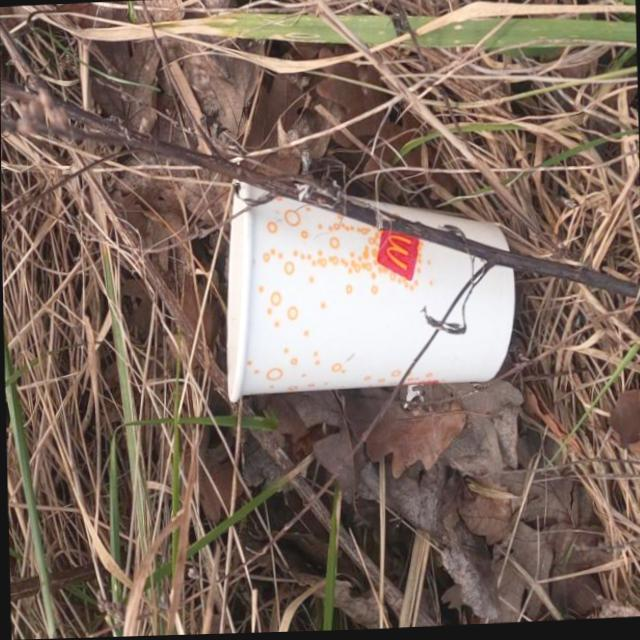Cup: (219, 168, 518, 408)
